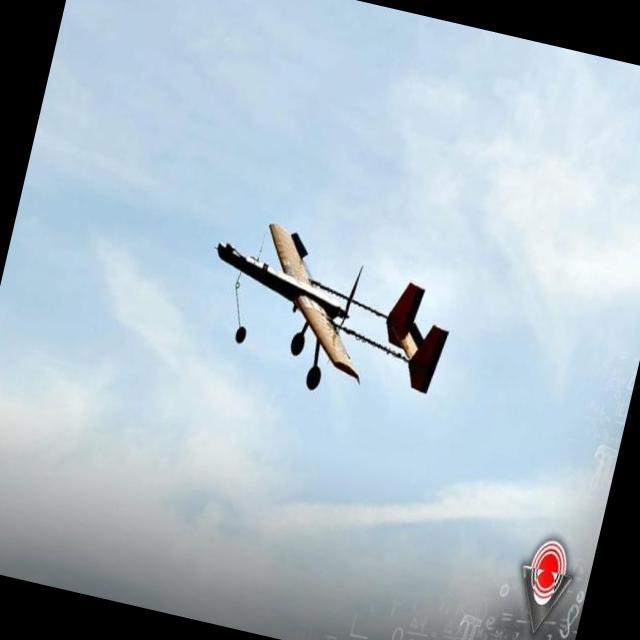UAV: (186, 202, 480, 440)
